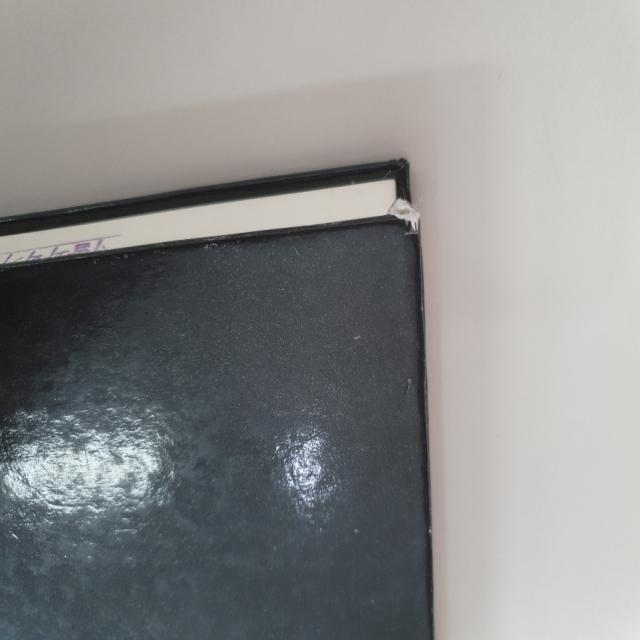Ripped: (385, 194, 427, 245)
Wornout: (420, 521, 437, 545)
